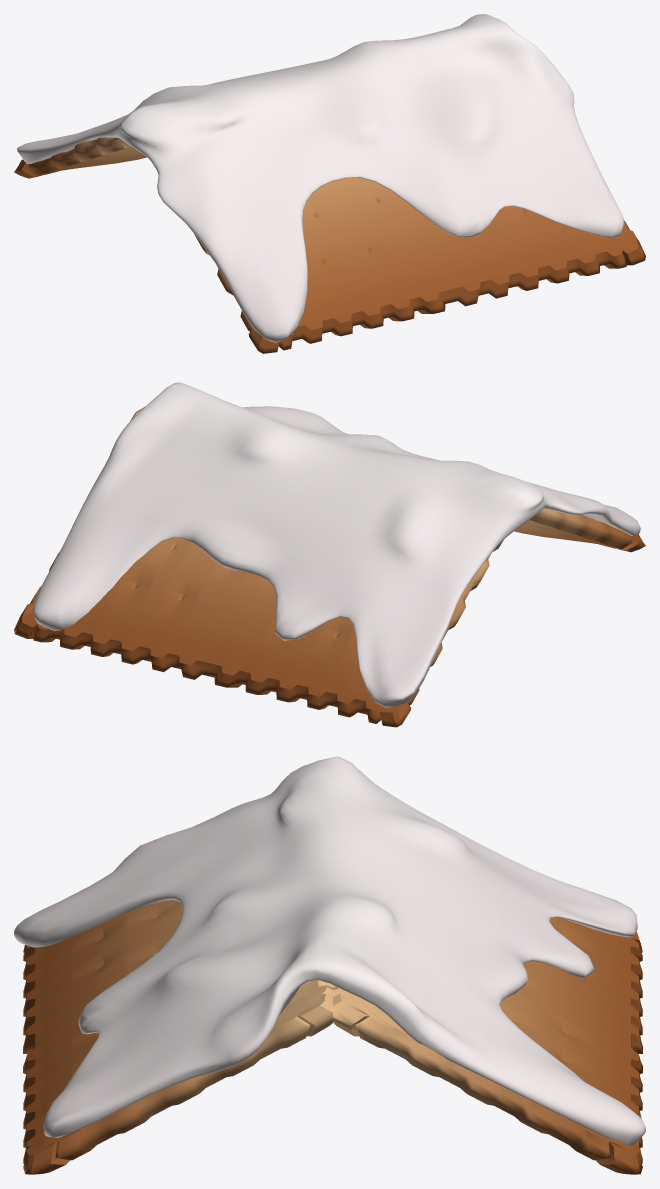
Rendered from Roof.fbx.
3 renders of one model, top to bottom at view 1: azimuth 30°, elevation 25°; view 2: azimuth 150°, elevation 25°; view 3: azimuth 270°, elevation 25°, orthographic. The views are drawn at different scales.
Visible parts, largest first — view 1: pCube28, pCube25; view 2: pCube28, pCube25; view 3: pCube28, pCube25.
Boxes of the visible parts, x1,y1,x2,y2 form: pCube28: (17,14,624,342); pCube25: (14,137,645,353); pCube28: (32,382,640,707); pCube25: (14,407,645,727); pCube28: (14,756,645,1144); pCube25: (23,900,642,1174).
Bounding box in the file's own units: 6.39 × 2.43 × 6.81.
